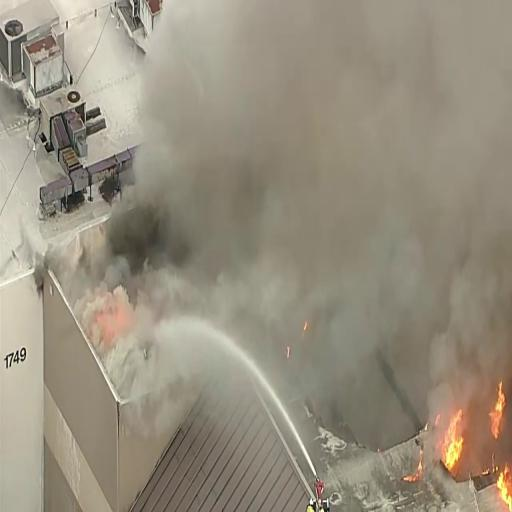fire: (436, 393, 512, 490)
